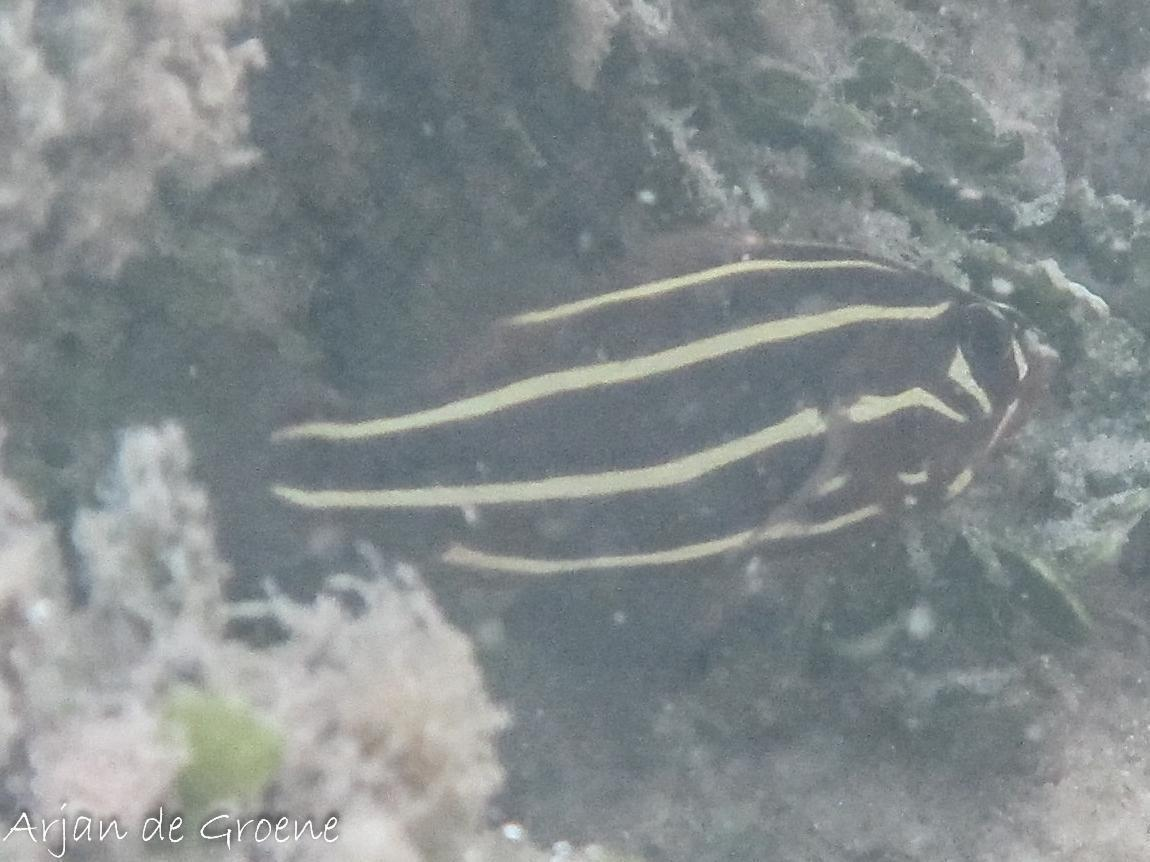Fish: (152, 236, 1068, 592)
